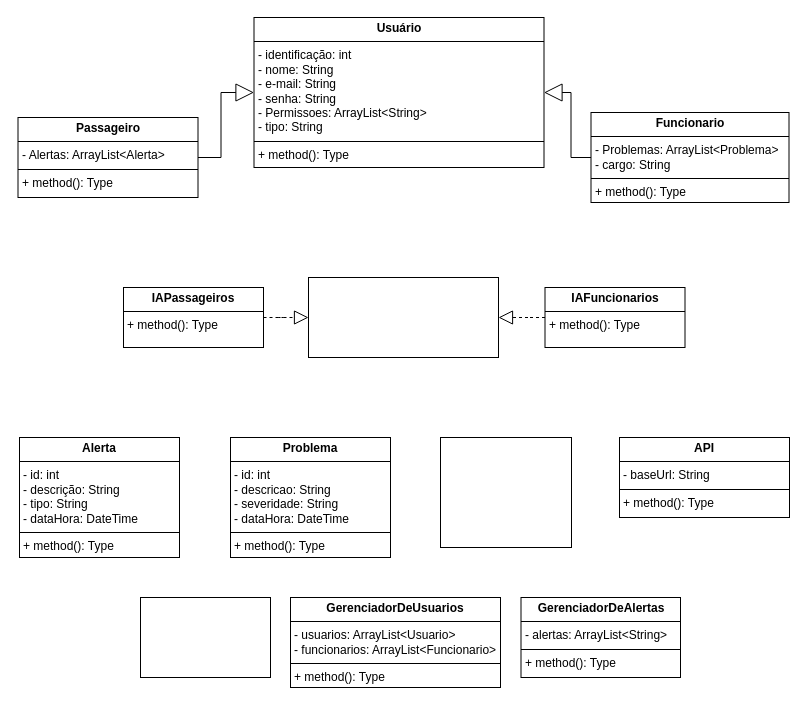
Image size: 807x705. Some labels were removed from this diagram. Each missing label, with the box of its shape:
BancoDeDados - conexao: Connection + method(): Type: (140, 596, 270, 678)
IA - modeloLLM: Object + method(): Type: (308, 276, 498, 358)
Notificacao - id: int - mensagem: String - dataHora: DateTime + method(): Type: (440, 436, 572, 548)
